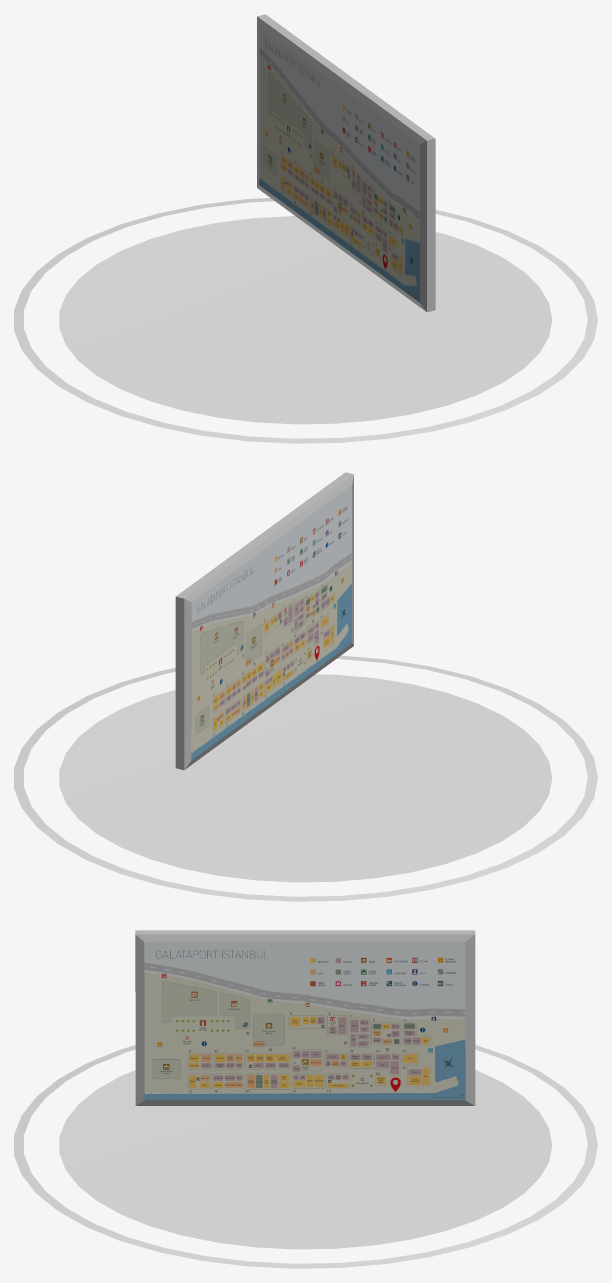
The model's file is Totem_0.5.fbx.
3 renders of one model, top to bottom at view 1: azimuth 30°, elevation 25°; view 2: azimuth 150°, elevation 25°; view 3: azimuth 270°, elevation 25°, orthographic.
Parts seen in each view (by area): view 1: Circle, Cube, Circle.001; view 2: Circle, Cube, Circle.001; view 3: Circle, Cube, Circle.001.
Part boxes in pixels (x1,y1,x2,y2): Circle: (59, 216, 552, 424); Cube: (257, 14, 435, 312); Circle.001: (14, 198, 597, 443); Circle: (59, 674, 552, 882); Cube: (175, 472, 353, 770); Circle.001: (14, 655, 597, 901); Circle: (59, 1069, 552, 1249); Cube: (135, 930, 475, 1105); Circle.001: (14, 1045, 597, 1268).
Bounding box in the file's own units: 449 × 198 × 449.
3 materials, 1 textured.
